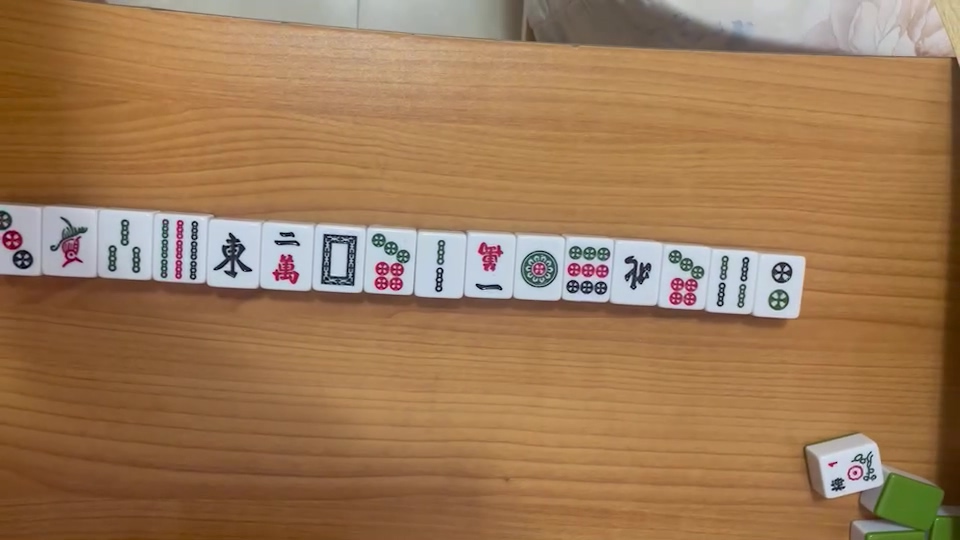b-1: (47, 211, 92, 272)
b-2: (425, 237, 454, 295), (766, 261, 794, 310)
b-3: (102, 218, 143, 277)
b-4: (715, 254, 751, 312)
b-9: (153, 218, 203, 279)
c-1: (474, 238, 505, 295)
c-2: (267, 228, 302, 286)
d-1: (518, 248, 561, 290)
d-3: (1, 208, 34, 271)
d-7: (366, 231, 412, 292), (666, 247, 706, 306)
d-9: (566, 243, 611, 298)
honors-east: (211, 231, 254, 281)
honors-north: (620, 254, 655, 290)
honors-white: (317, 232, 361, 290)
